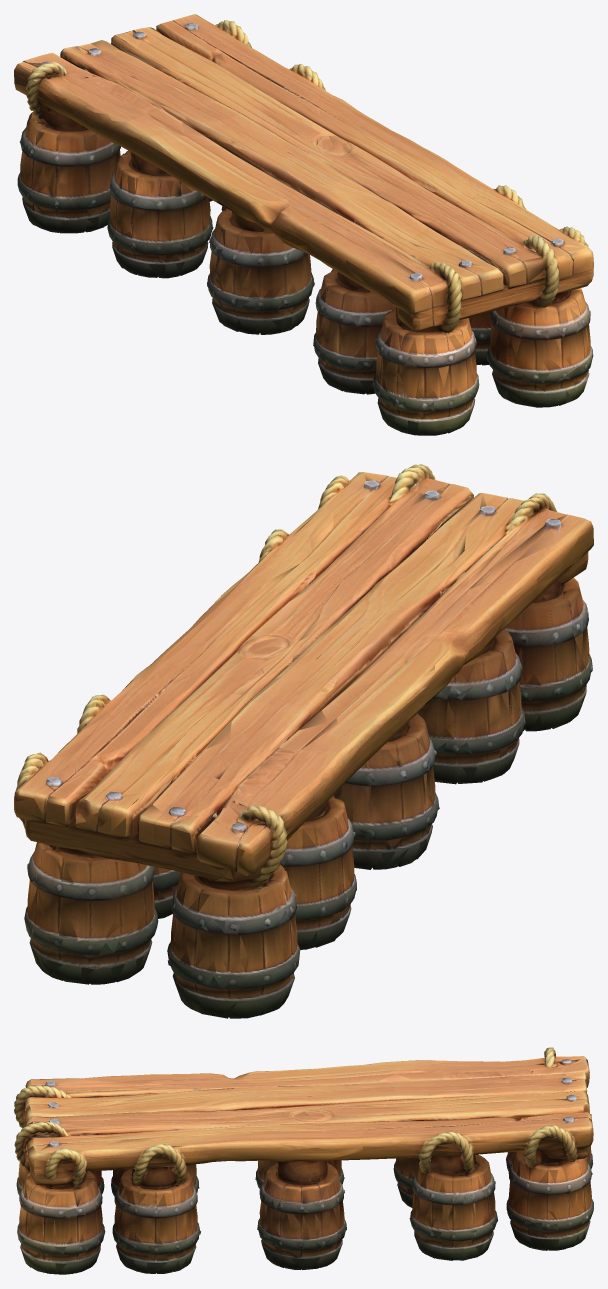
File: plat_uzun.glb
3 renders of one model, top to bottom at view 1: azimuth 30°, elevation 25°; view 2: azimuth 150°, elevation 25°; view 3: azimuth 270°, elevation 25°, orthographic. The views are drawn at different scales.
Visible parts, largest first — view 1: tripo_node_84e75d85-dc74-4d4c-aea9-40fa3669128e; view 2: tripo_node_84e75d85-dc74-4d4c-aea9-40fa3669128e; view 3: tripo_node_84e75d85-dc74-4d4c-aea9-40fa3669128e.
Boxes of the visible parts, x1,y1,x2,y2 form: tripo_node_84e75d85-dc74-4d4c-aea9-40fa3669128e: [14, 14, 593, 435]; tripo_node_84e75d85-dc74-4d4c-aea9-40fa3669128e: [14, 464, 593, 1018]; tripo_node_84e75d85-dc74-4d4c-aea9-40fa3669128e: [14, 1047, 593, 1274].
Size of the model in its own units: 0.4306 by 0.2492 by 0.9785.
1 material, 1 textured.
